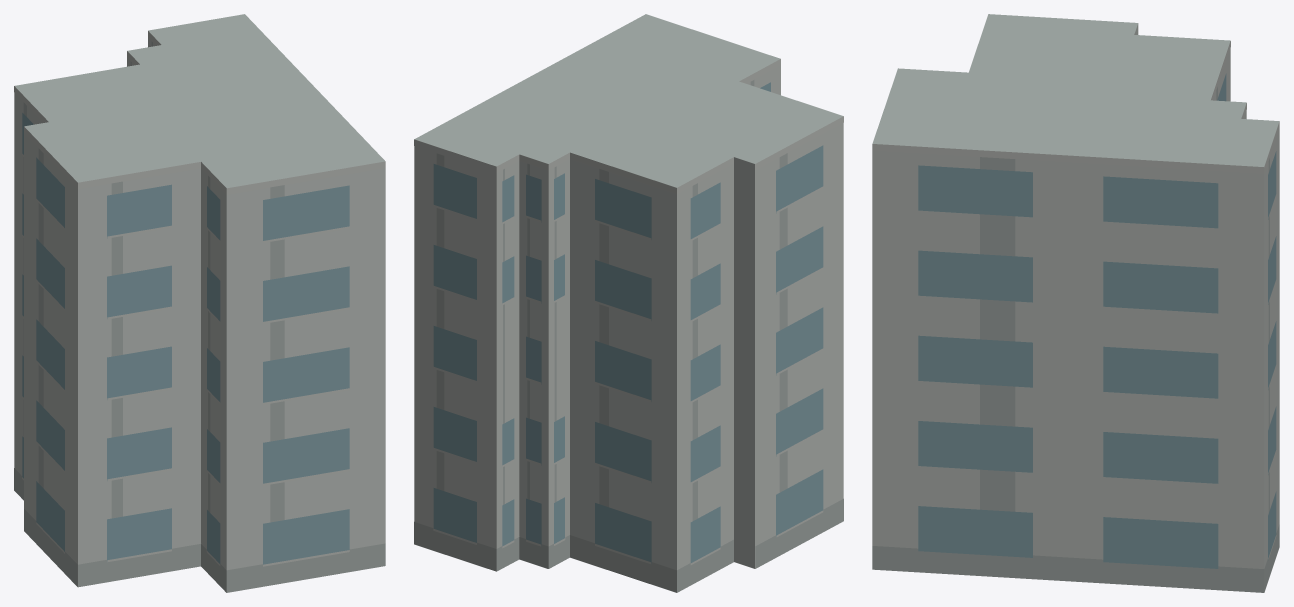
The model's file is survey-upis-32807116.glb.
The picture shows the model from 3 angles, left to right: view 1: azimuth 30°, elevation 25°; view 2: azimuth 150°, elevation 25°; view 3: azimuth 270°, elevation 25°; orthographic projection. The views are drawn at different scales.
Parts seen in each view (by area): view 1: survey-upis-32807116.tmp; view 2: survey-upis-32807116.tmp; view 3: survey-upis-32807116.tmp.
Boxes of the visible parts, <box> form: survey-upis-32807116.tmp: <box>14,14,385,592</box>; survey-upis-32807116.tmp: <box>414,14,843,592</box>; survey-upis-32807116.tmp: <box>872,14,1279,592</box>.
Bounding box in the file's own units: 11.77 × 15.25 × 13.23.
